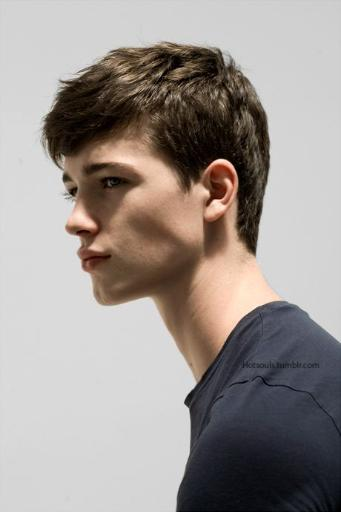left_eye: (100, 175, 135, 193)
left_lip_corner: (100, 250, 114, 269)
